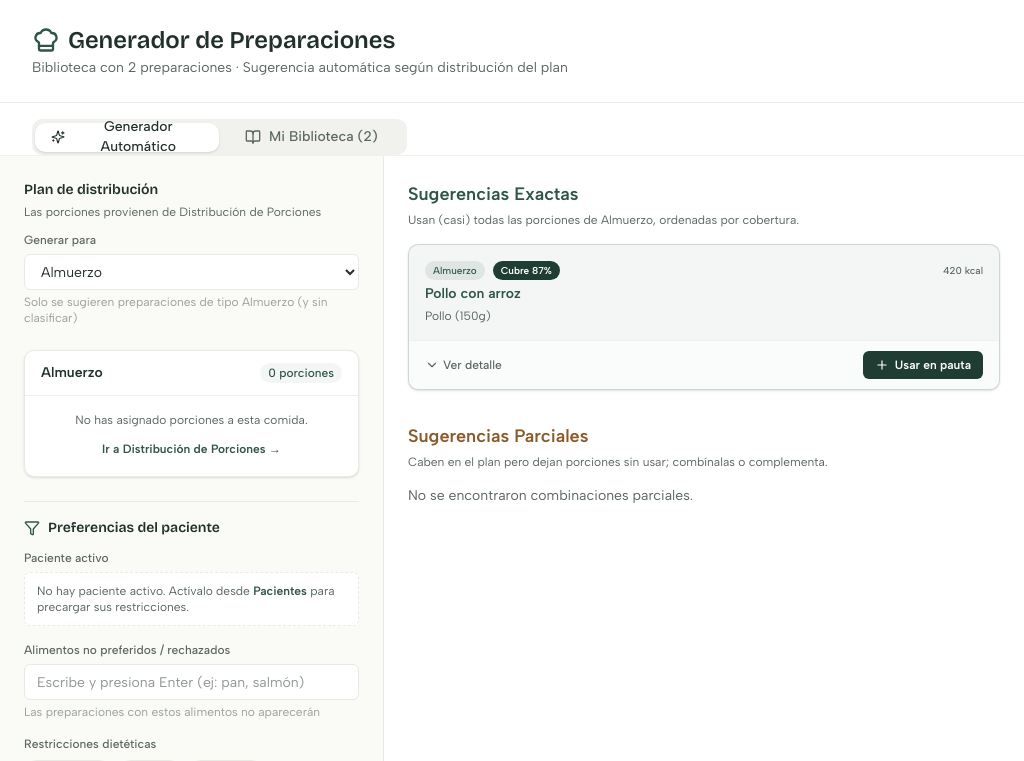
Test case: GeneradorPreparaciones › pestaña generador › expande el detalle de una sugerencia con "Ver detalle"
Click the button "Ver detalle": [463, 365] box [425,357,502,373]
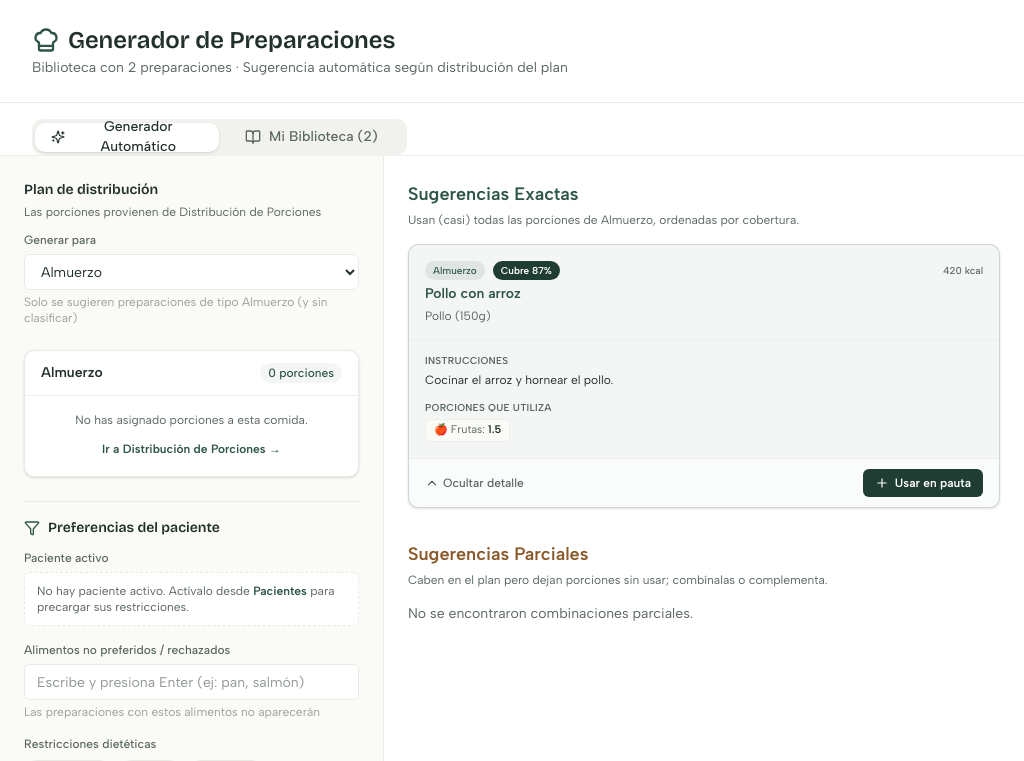
expect the text "Cocinar el arroz y hornear el pollo." is shown: met, box [425,373,613,387]
expect the text "Porciones que utiliza" is shown: met, box [425,401,552,414]
